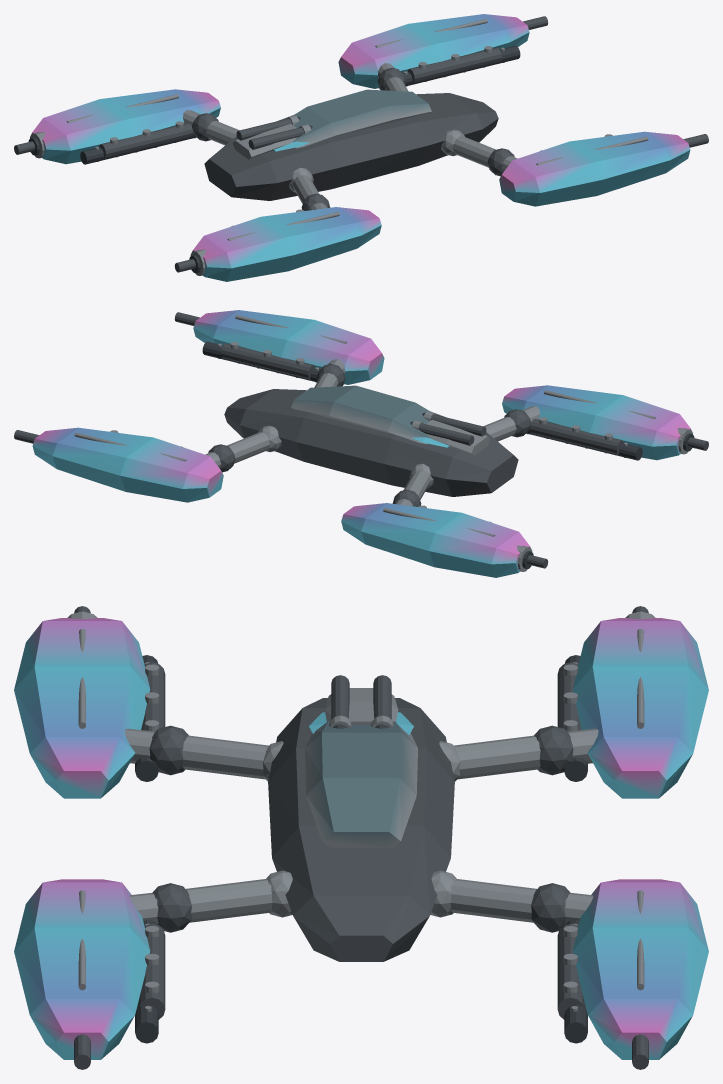
The model's file is x5_neon_ground_off.glb.
The picture shows the model from 3 angles, top to bottom: view 1: azimuth 30°, elevation 25°; view 2: azimuth 150°, elevation 25°; view 3: azimuth 270°, elevation 25°; orthographic projection. The views are drawn at different scales.
Visible parts, largest first — view 1: pod_armor_10, center_hull_0, cabin_base_1, pod_mechanics_15, mechanical_arms_8, outer_joint_9, pod_rail_11, missile_body_3, inner_drive_rail_17, forward_gun_12, launcher_saddle_2, inner_joint_7; view 2: pod_armor_10, center_hull_0, cabin_base_1, pod_mechanics_15, mechanical_arms_8, outer_joint_9, missile_body_3, pod_rail_11, inner_drive_rail_17, forward_gun_12, launcher_saddle_2, inner_joint_7; view 3: pod_armor_10, center_hull_0, mechanical_arms_8, cabin_base_1, outer_joint_9, pod_mechanics_15, inner_drive_rail_17, inner_joint_7, pod_rail_11, mechanical_crossbeam_16, missile_body_3, forward_gun_12 (+1 smaller).
Part boxes in pixels (x1,y1,x2,y2): pod_armor_10: (30,14,690,281); center_hull_0: (204,93,498,200); cabin_base_1: (292,89,431,148); pod_mechanics_15: (99,47,501,158); mechanical_arms_8: (183,63,517,210); outer_joint_9: (192,68,514,210); pod_rail_11: (66,19,648,240); missile_body_3: (236,117,311,149); inner_drive_rail_17: (80,45,520,164); forward_gun_12: (14,16,708,272); launcher_saddle_2: (232,123,297,159); inner_joint_7: (289,129,464,192); pod_armor_10: (32,310,692,577); center_hull_0: (224,389,518,496); cabin_base_1: (291,385,430,444); pod_mechanics_15: (221,343,623,454); mechanical_arms_8: (205,359,539,506); outer_joint_9: (208,364,530,506); missile_body_3: (411,413,486,445); pod_rail_11: (74,315,656,536); inner_drive_rail_17: (202,341,642,460); forward_gun_12: (14,312,708,568); launcher_saddle_2: (426,419,490,455); inner_joint_7: (258,425,433,488); pod_armor_10: (14,618,708,1059); center_hull_0: (268,698,454,961); mechanical_arms_8: (124,728,598,923); cabin_base_1: (305,721,417,847); outer_joint_9: (149,725,573,932); pod_mechanics_15: (139,662,583,1019); inner_drive_rail_17: (135,655,587,1043); inner_joint_7: (262,741,460,917); pod_rail_11: (78,629,644,990); mechanical_crossbeam_16: (145,664,577,992); missile_body_3: (331,675,391,727); forward_gun_12: (74,606,648,1069).
Bounding box in the file's own units: 8.06 × 0.9 × 5.28.
